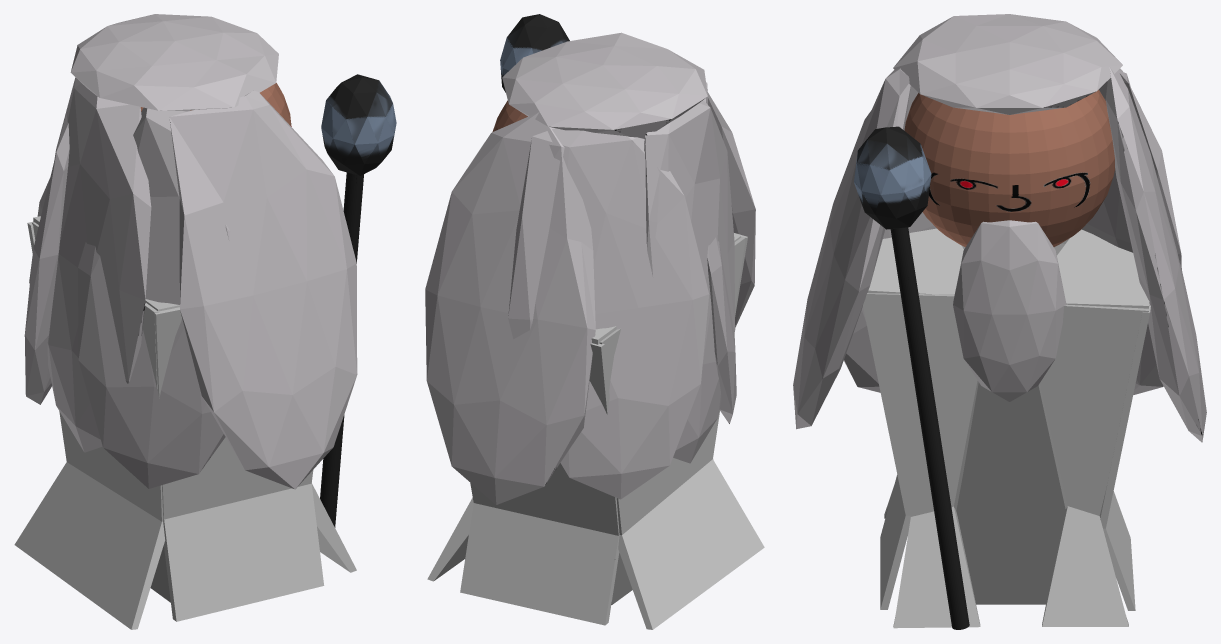
Rendered from Hrabia Namuras.fbx.
3 views of the same model, side by side, from view 1: azimuth 30°, elevation 25°; view 2: azimuth 150°, elevation 25°; view 3: azimuth 270°, elevation 25° (orthographic). The views are drawn at different scales.
Visible parts, largest first — view 1: Cube; view 2: Cube; view 3: Cube.
Boxes of the visible parts, x1,y1,x2,y2 form: Cube: (14,14,396,629); Cube: (425,14,764,629); Cube: (793,14,1206,629).
Size of the model in its own units: 78.08 by 110 by 62.6.
